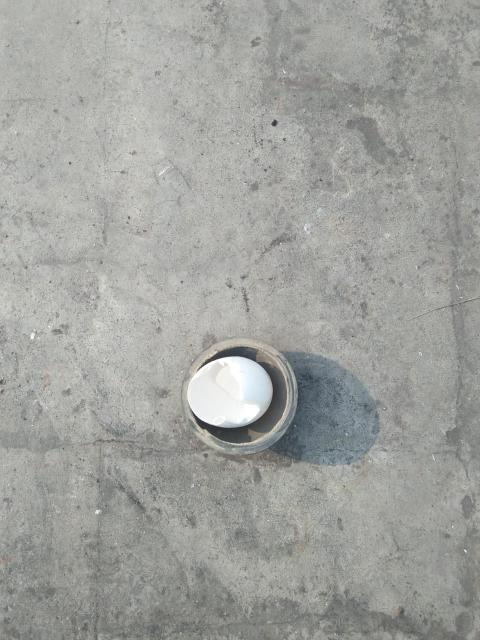Roto: (185, 355, 273, 430)
